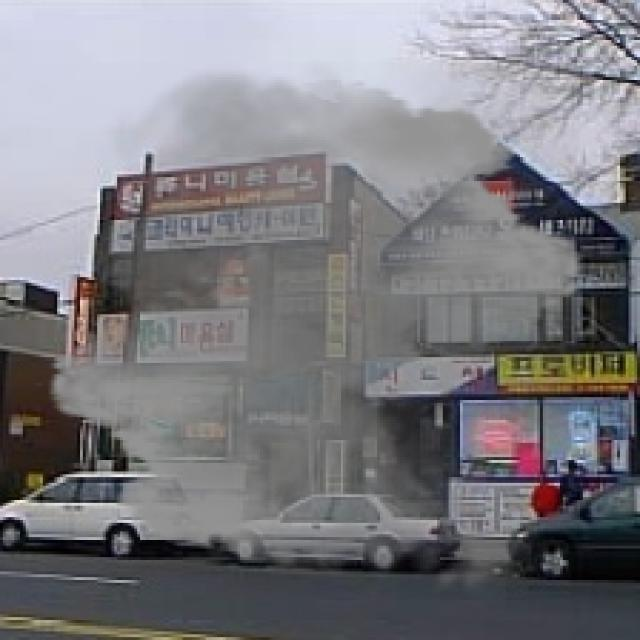Smoke: (31, 57, 600, 609)
